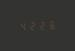four: (18, 20, 26, 31)
six: (45, 19, 53, 30)
two: (27, 20, 35, 31), (36, 20, 44, 30)
